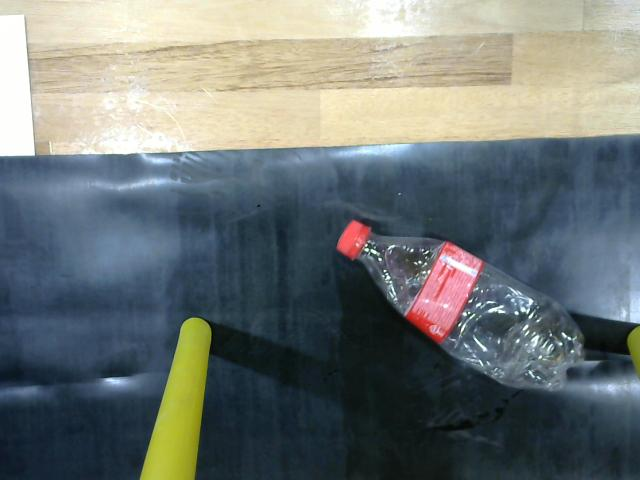bottle: (339, 216, 586, 394)
